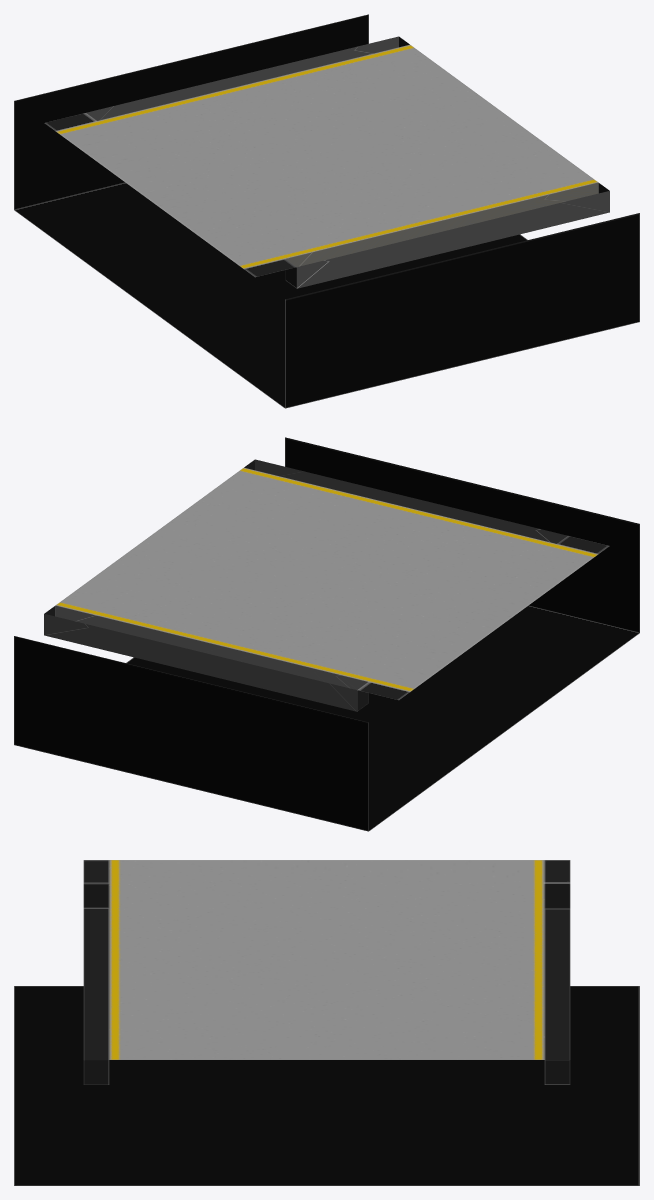
The model's file is floor-1.fbx.
The picture shows the model from 3 angles, top to bottom: view 1: azimuth 30°, elevation 25°; view 2: azimuth 150°, elevation 25°; view 3: azimuth 270°, elevation 25°; orthographic projection. The views are drawn at different scales.
Visible parts, largest first — view 1: pCube32; view 2: pCube32; view 3: pCube32.
Boxes of the visible parts, bbox=[...] form: pCube32: bbox=[14, 14, 639, 408]; pCube32: bbox=[14, 437, 639, 831]; pCube32: bbox=[14, 860, 639, 1185].
Size of the model in its own units: 3.4 by 1 by 4.5.
1 material, 1 textured.
